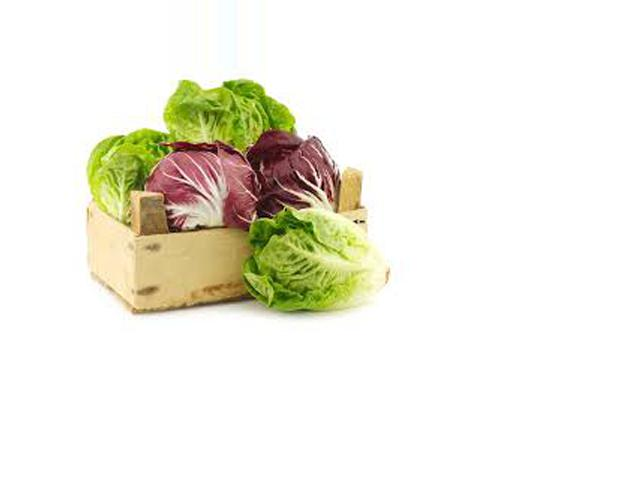lettuce: (162, 77, 294, 168)
